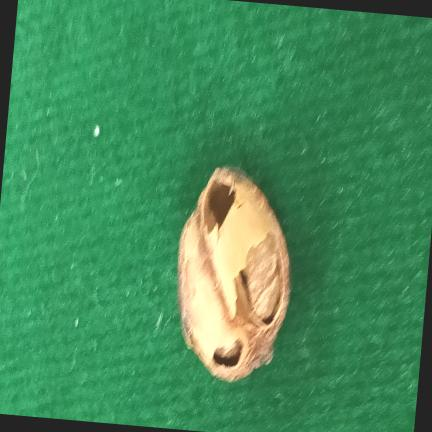husk: (178, 168, 290, 381)
